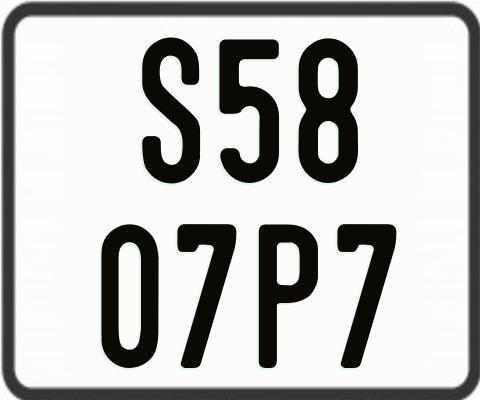0: (98, 224, 156, 370)
5: (217, 37, 282, 183)
7: (175, 224, 239, 369), (335, 224, 397, 370)
8: (297, 35, 360, 185)
P: (257, 222, 320, 371)
S: (140, 34, 204, 183)
